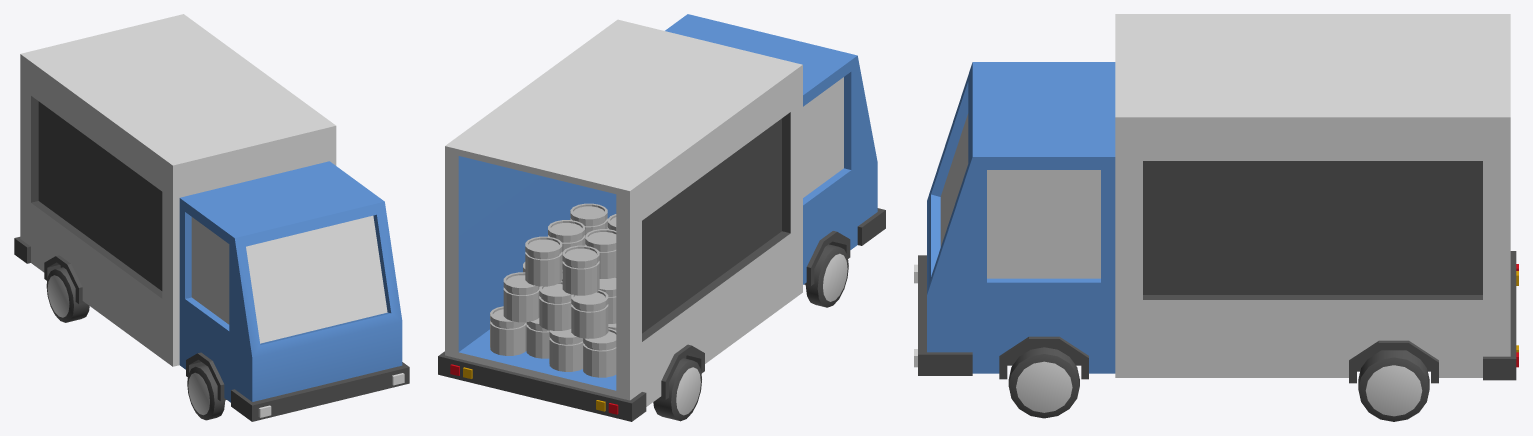
Rendered from CargoTruck.fbx.
3 views of the same model, side by side, from view 1: azimuth 30°, elevation 25°; view 2: azimuth 150°, elevation 25°; view 3: azimuth 270°, elevation 25° (orthographic). The views are drawn at different scales.
Visible parts, largest first — view 1: TruckMesh; view 2: TruckMesh, PaintBucket; view 3: TruckMesh.
Part boxes in pixels (x1,y1,x2,y2): TruckMesh: (14, 14, 409, 421); TruckMesh: (438, 14, 885, 421); PaintBucket: (490, 203, 616, 377); TruckMesh: (914, 14, 1518, 421).
Bounding box in the file's own units: 1.34 × 1.68 × 3.06.
